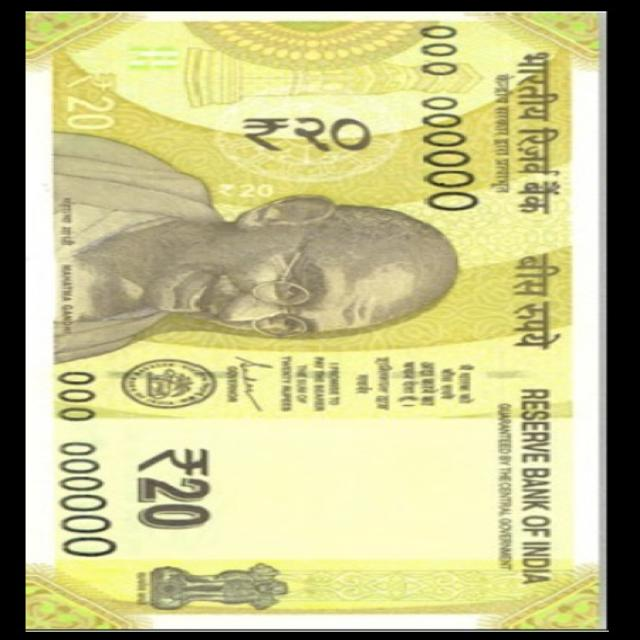20IndianRupees: (26, 11, 600, 626)
